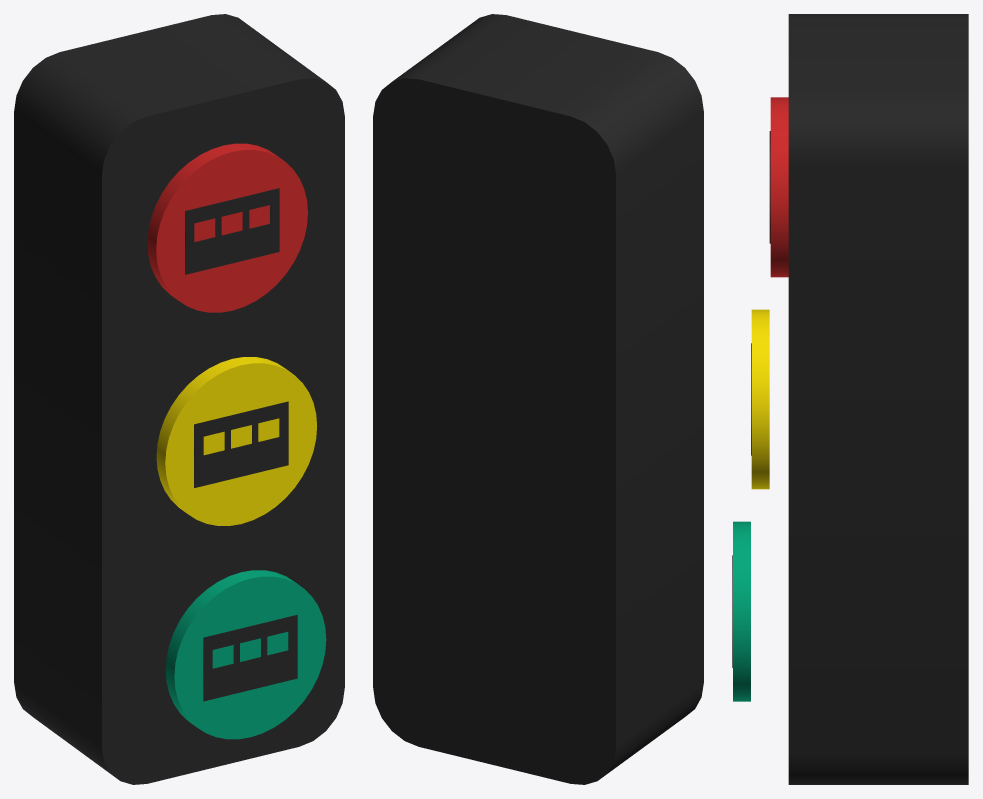
3 renders of one model, left to right at view 1: azimuth 30°, elevation 25°; view 2: azimuth 150°, elevation 25°; view 3: azimuth 270°, elevation 25°, orthographic. The views are drawn at different scales.
Visible parts, largest first — view 1: R15b_r00, R15b_d302, R15b_d250, R15b_d276, R15b_s275, R15b_s301, R15b_s327; view 2: R15b_r00; view 3: R15b_r00, R15b_d250, R15b_d276, R15b_d302.
Part boxes in pixels (left/top/right/bottom): R15b_r00: left=14, top=14, right=344, bottom=784; R15b_d302: left=165, top=570, right=326, bottom=739; R15b_d250: left=147, top=143, right=307, bottom=312; R15b_d276: left=156, top=357, right=316, bottom=525; R15b_s275: left=185, top=188, right=279, bottom=274; R15b_s301: left=194, top=401, right=288, bottom=487; R15b_s327: left=203, top=614, right=297, bottom=701; R15b_r00: left=373, top=14, right=703, bottom=784; R15b_r00: left=788, top=14, right=968, bottom=784; R15b_d250: left=770, top=97, right=788, bottom=277; R15b_d276: left=751, top=309, right=769, bottom=489; R15b_d302: left=733, top=521, right=750, bottom=701.
Size of the model in its own units: 0.16 by 0.42 by 0.1312.
